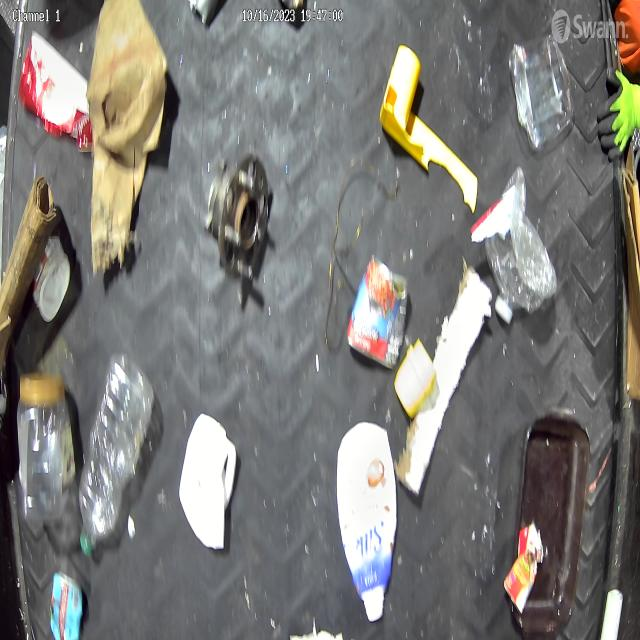can: (346, 255, 410, 370), (50, 571, 84, 640)
plastic_bottle: (76, 352, 156, 556), (484, 165, 560, 329)
